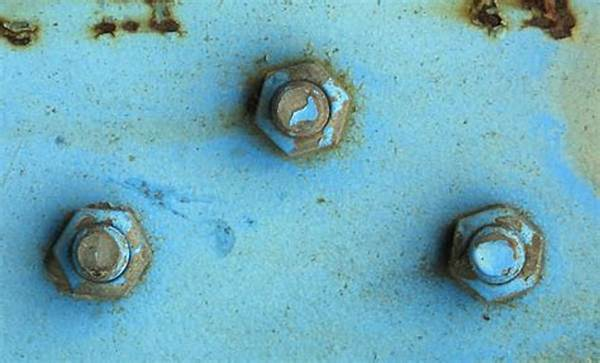bolt_b: (444, 203, 547, 305), (253, 59, 353, 158), (49, 205, 153, 300)
